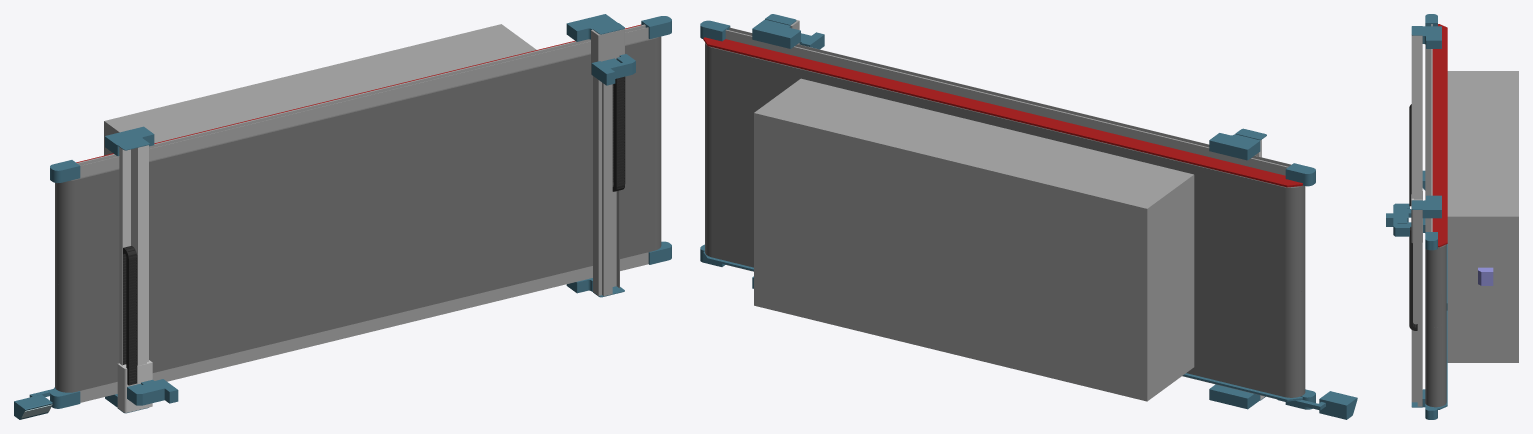
Rendered from m_machine.obj.
3 views of the same model, side by side, from view 1: azimuth 30°, elevation 25°; view 2: azimuth 150°, elevation 25°; view 3: azimuth 270°, elevation 25° (orthographic). The views are drawn at different scales.
Parts seen in each view (by area): view 1: m_body, m_beam2, m_beam1, m_knife1, m_knife2; view 2: m_body, m_beam1, m_beam2; view 3: m_body, m_beam2, m_beam1, m_knife2, m_knife1.
Boxes of the visible parts, left/top/right/bottom form: m_body: left=14, top=16, right=671, bottom=419; m_beam2: left=566, top=14, right=625, bottom=297; m_beam1: left=105, top=126, right=154, bottom=413; m_knife1: left=127, top=379, right=178, bottom=405; m_knife2: left=591, top=54, right=635, bottom=85; m_body: left=700, top=20, right=1357, bottom=419; m_beam1: left=1209, top=128, right=1266, bottom=409; m_beam2: left=752, top=14, right=800, bottom=288; m_body: left=1422, top=14, right=1518, bottom=419; m_beam2: left=1409, top=195, right=1441, bottom=407; m_beam1: left=1409, top=26, right=1441, bottom=232; m_knife2: left=1386, top=215, right=1411, bottom=236; m_knife1: left=1386, top=203, right=1411, bottom=217.
Bounding box in the file's own units: 555 × 214 × 130.
